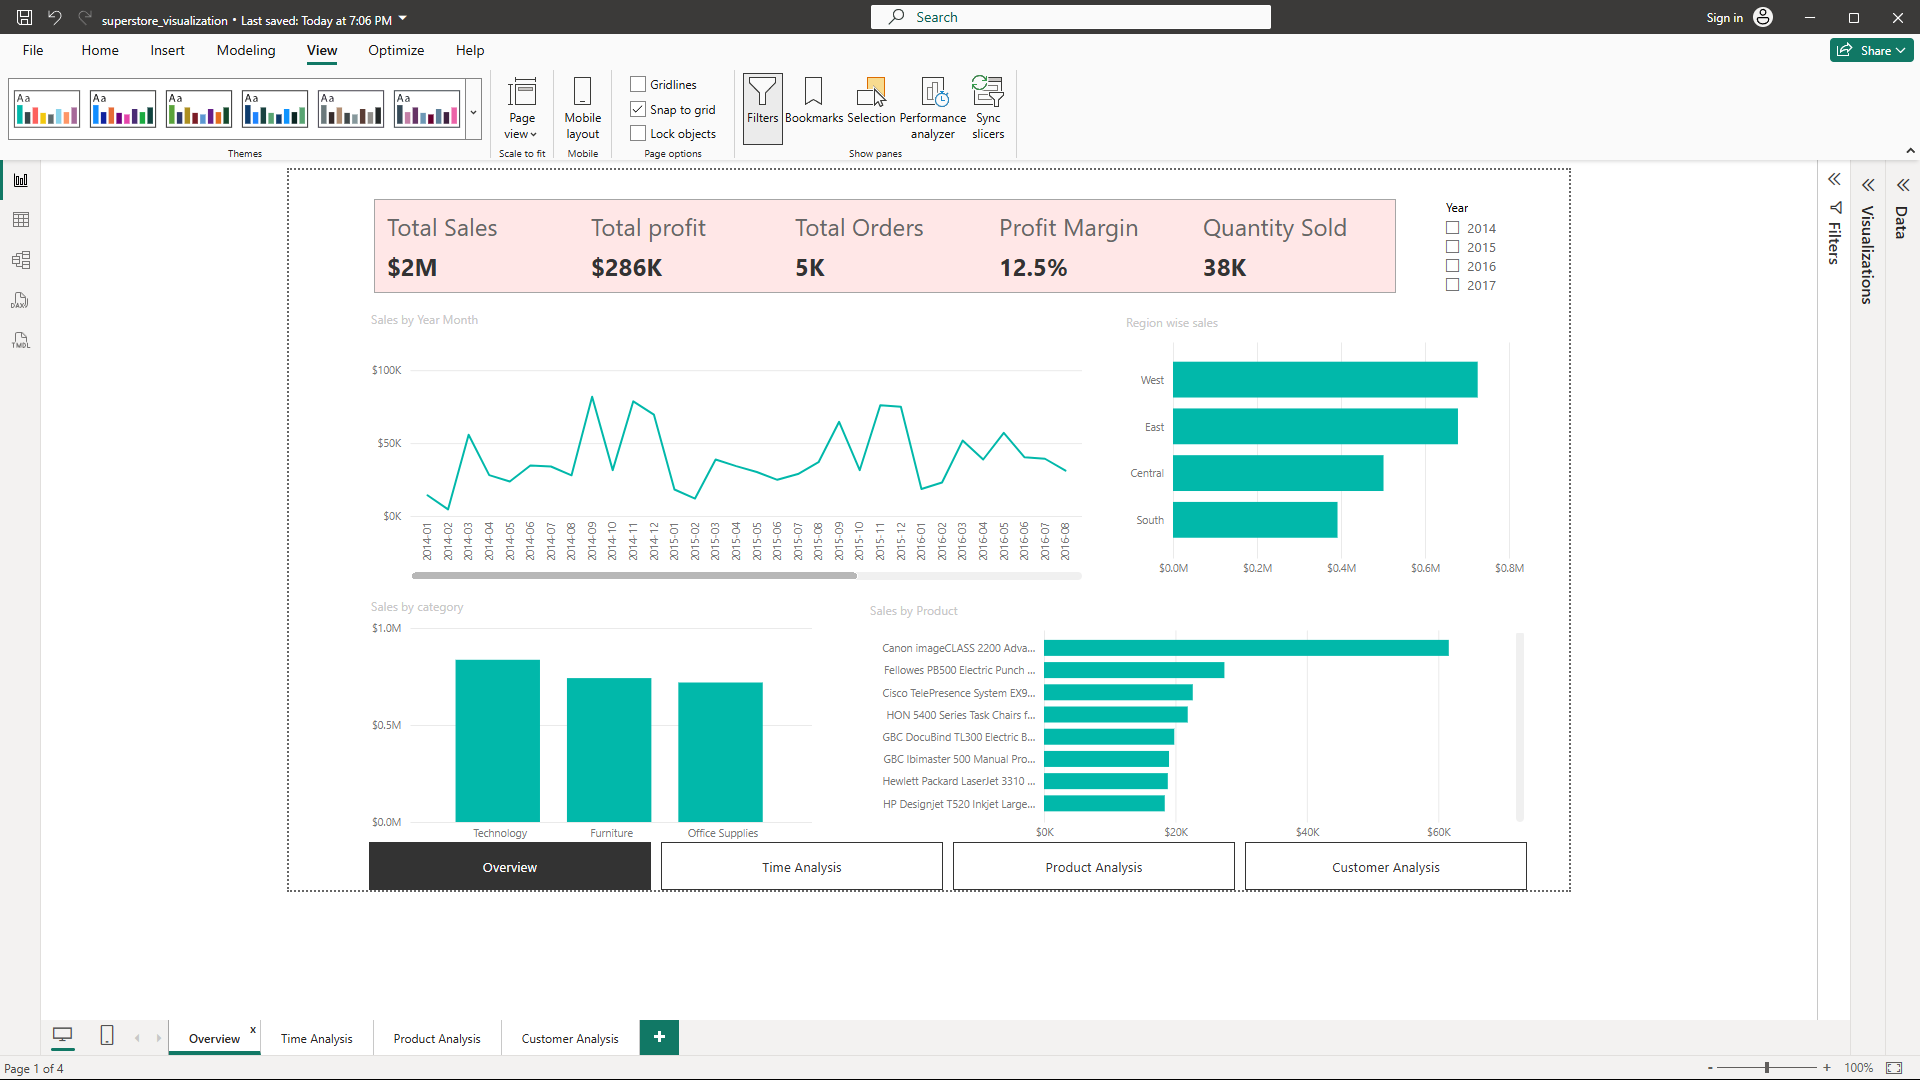

The dashboard page shown, as its layout file describes it:
{"tool":"powerbi","page":{"name":"Overview","canvas":[1280,720],"ordinal":0},"visuals":[{"type":"cardVisual","fields":{"Data":["dim_date.yearly sales","Sum(fact_sales.profit)","dim_date.Total Orders","fact_sales.Profit Margin","fact_sales.Quantity Sold"]},"box":[80,24,1032,104],"z":0},{"type":"slicer","fields":{"Values":["dim_date.Year"]},"box":[1144,24,96,104],"z":1000},{"type":"lineChart","fields":{"Category":["dim_date.Year Month"],"Y":["Sum(fact_sales.sales)"]},"box":[77.1,141.1,720.7,274.1],"z":2000},{"type":"barChart","title":"Region wise sales","fields":{"Category":["fact_sales.region"],"Y":["Sum(fact_sales.sales)"]},"box":[832,144,408,272],"z":3000},{"type":"columnChart","fields":{"Category":["dim_product.category"],"Y":["Sum(fact_sales.sales)"]},"box":[77.1,428.4,450.7,252.8],"z":4000},{"type":"barChart","fields":{"Category":["dim_product.product_name"],"Y":["Sum(fact_sales.sales)"]},"box":[576,432,664,248],"z":5000},{"type":"pageNavigator","box":[80,672,1160,48],"z":5001}]}

Visuals, with their boxes on the page's 1280x720 design canvas (x1, y1, x2, y2). These are canvas units, not pixel positions in the 1920x1080 screenshot, which may show the page scaled, cropped or inside an application window:
cardVisual - dim_date.yearly sales x Sum(fact_sales.profit): region(80, 24, 1112, 128)
slicer - dim_date.Year: region(1144, 24, 1240, 128)
lineChart - dim_date.Year Month x Sum(fact_sales.sales): region(77, 141, 798, 415)
"Region wise sales" barChart: region(832, 144, 1240, 416)
columnChart - dim_product.category x Sum(fact_sales.sales): region(77, 428, 528, 681)
barChart - dim_product.product_name x Sum(fact_sales.sales): region(576, 432, 1240, 680)
pageNavigator: region(80, 672, 1240, 720)
